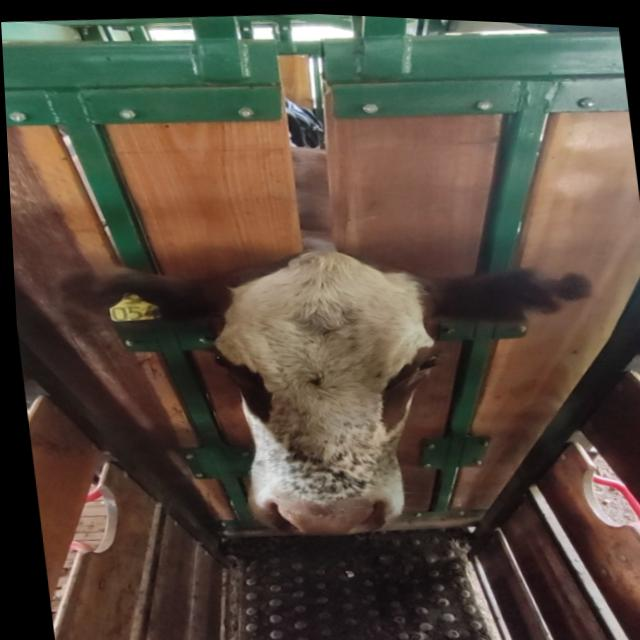cowFace: (192, 235, 453, 545)
